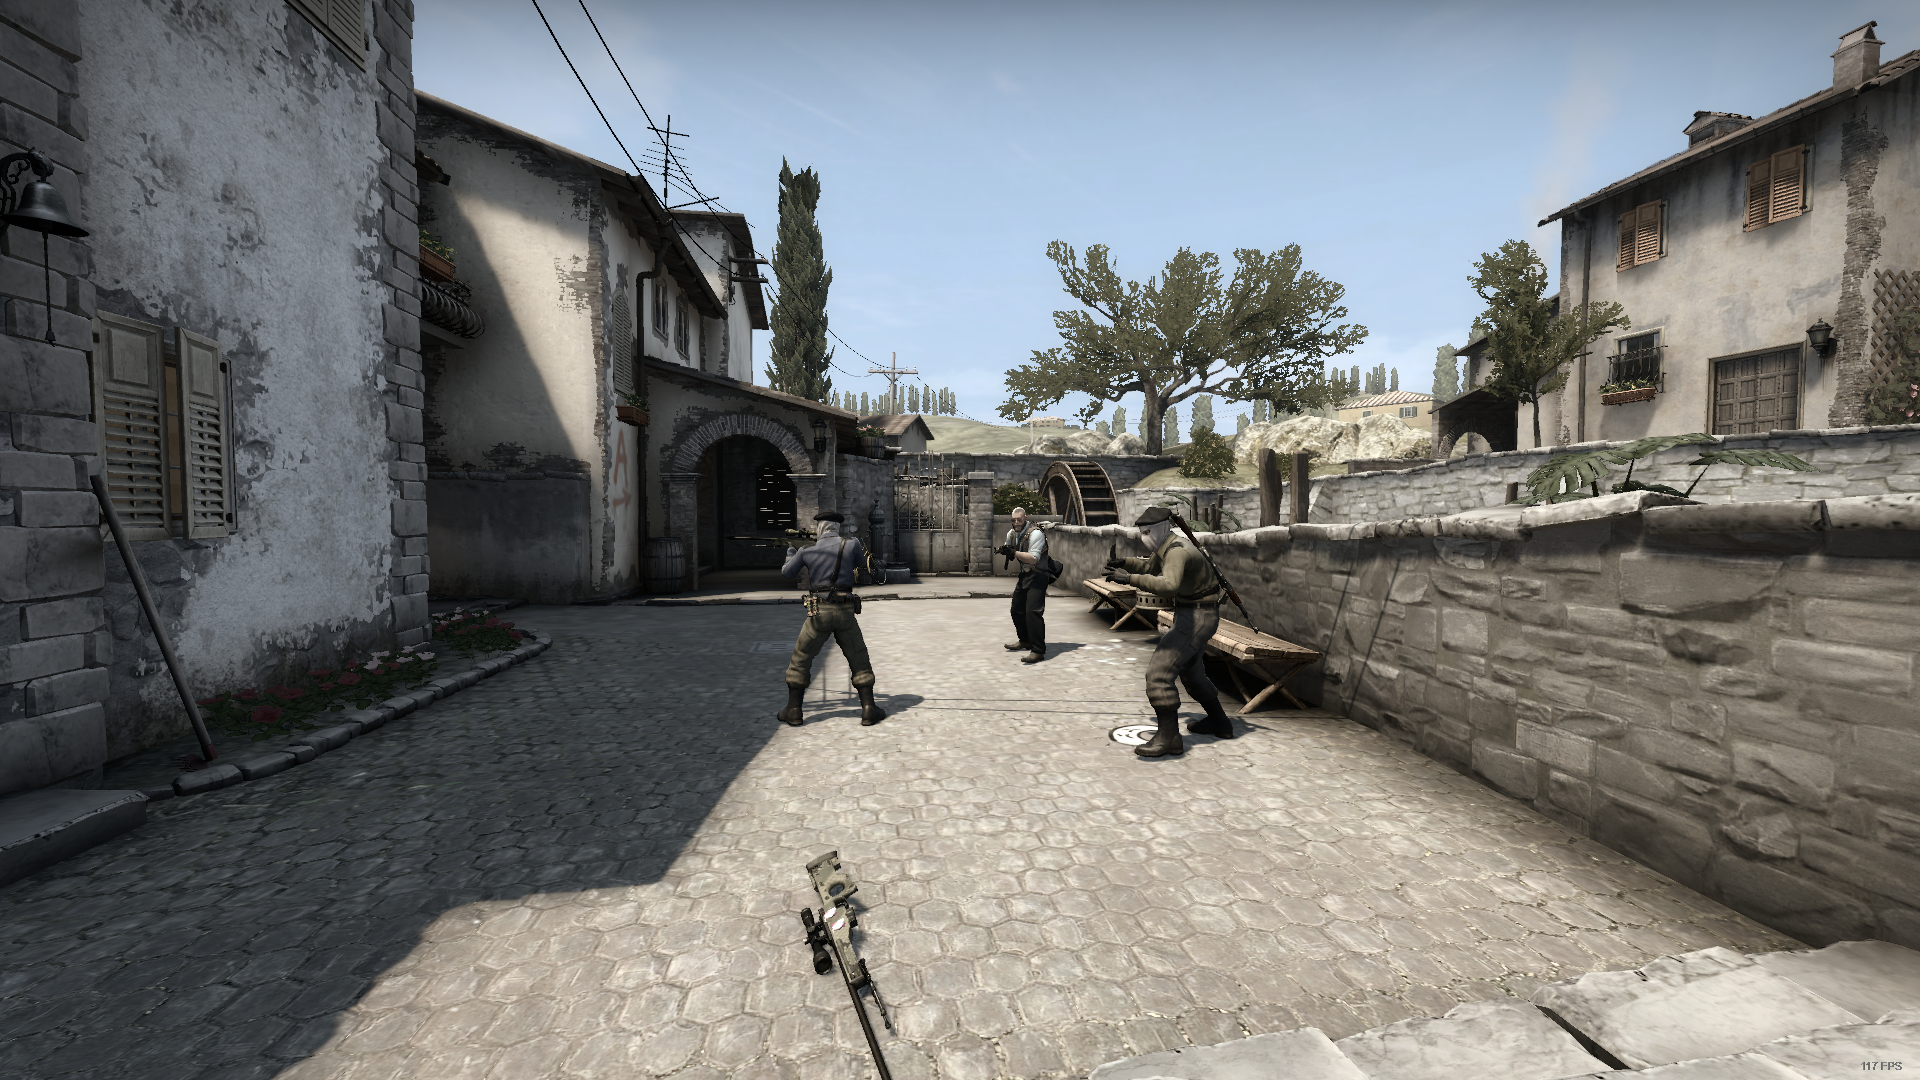t: (1121, 506, 1254, 767), (781, 509, 887, 732)
